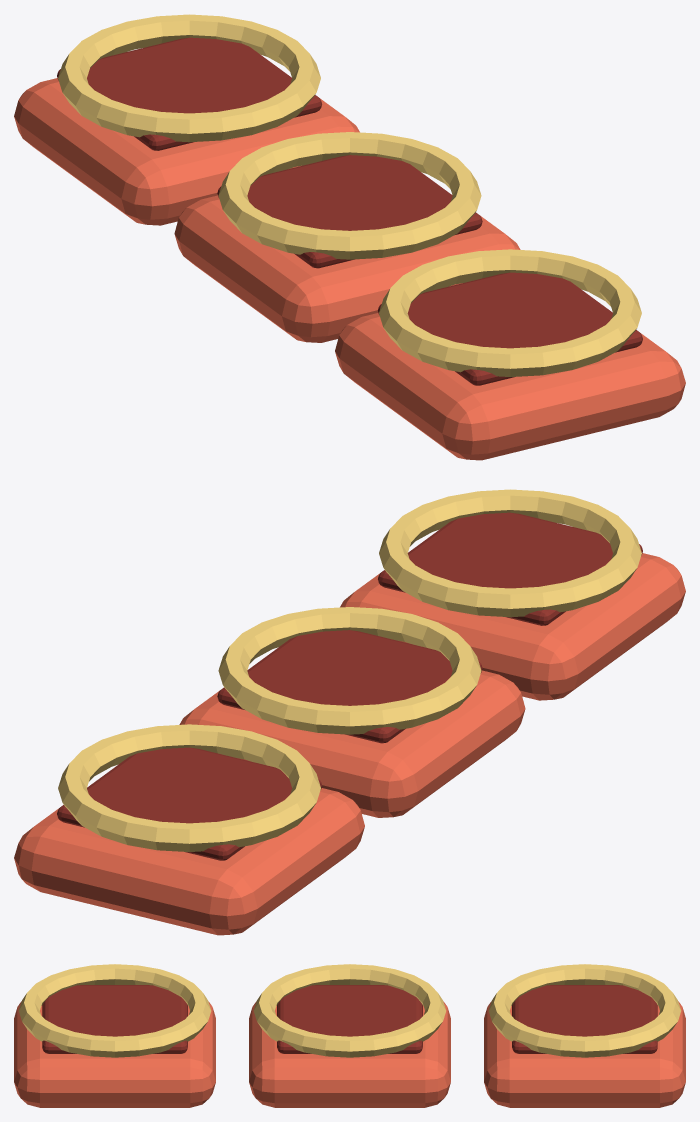
Rendered from PR3D_Container_1x3.fbx.
3 renders of one model, top to bottom at view 1: azimuth 30°, elevation 25°; view 2: azimuth 150°, elevation 25°; view 3: azimuth 270°, elevation 25°, orthographic. The views are drawn at different scales.
Visible parts, largest first — view 1: Visual_1x3_Base_00, Visual_1x3_Base_02, Visual_1x3_Base_01, Visual_1x3_Rim_01, Visual_1x3_Rim_02, Visual_1x3_Rim_00, Visual_1x3_Inset_00, Visual_1x3_Inset_01, Visual_1x3_Inset_02; view 2: Visual_1x3_Base_02, Visual_1x3_Base_00, Visual_1x3_Base_01, Visual_1x3_Rim_01, Visual_1x3_Rim_00, Visual_1x3_Rim_02, Visual_1x3_Inset_02, Visual_1x3_Inset_01, Visual_1x3_Inset_00; view 3: Visual_1x3_Base_00, Visual_1x3_Base_02, Visual_1x3_Base_01, Visual_1x3_Rim_00, Visual_1x3_Rim_02, Visual_1x3_Rim_01, Visual_1x3_Inset_01, Visual_1x3_Inset_00, Visual_1x3_Inset_02.
Part boxes in pixels (x1,y1,x2,y2): Visual_1x3_Base_00: [335, 313, 685, 460]; Visual_1x3_Base_02: [14, 78, 359, 225]; Visual_1x3_Base_01: [174, 195, 520, 342]; Visual_1x3_Rim_01: [218, 132, 481, 259]; Visual_1x3_Rim_02: [58, 14, 320, 142]; Visual_1x3_Rim_00: [379, 249, 641, 376]; Visual_1x3_Inset_00: [378, 272, 642, 385]; Visual_1x3_Inset_01: [217, 155, 482, 268]; Visual_1x3_Inset_02: [57, 37, 321, 150]; Visual_1x3_Base_02: [14, 788, 364, 935]; Visual_1x3_Base_00: [340, 553, 685, 700]; Visual_1x3_Base_01: [179, 670, 525, 817]; Visual_1x3_Rim_01: [218, 607, 481, 734]; Visual_1x3_Rim_00: [379, 489, 641, 617]; Visual_1x3_Rim_02: [58, 724, 320, 851]; Visual_1x3_Inset_02: [57, 747, 321, 860]; Visual_1x3_Inset_01: [217, 630, 482, 743]; Visual_1x3_Inset_00: [378, 512, 642, 625]; Visual_1x3_Base_00: [14, 1001, 215, 1107]; Visual_1x3_Base_02: [484, 1001, 685, 1107]; Visual_1x3_Base_01: [249, 1001, 450, 1107]; Visual_1x3_Rim_00: [18, 964, 211, 1057]; Visual_1x3_Rim_02: [488, 964, 681, 1057]; Visual_1x3_Rim_01: [253, 964, 446, 1057]; Visual_1x3_Inset_01: [277, 985, 422, 1053]; Visual_1x3_Inset_00: [42, 985, 187, 1053]; Visual_1x3_Inset_02: [512, 985, 657, 1053].
Bounding box in the file's own units: 0.86 × 0.334 × 2.86.
